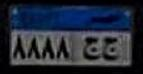8: (12, 32, 27, 61), (56, 35, 70, 62), (27, 34, 41, 60), (42, 35, 55, 61)
jeem: (81, 35, 101, 62), (102, 34, 120, 62)
